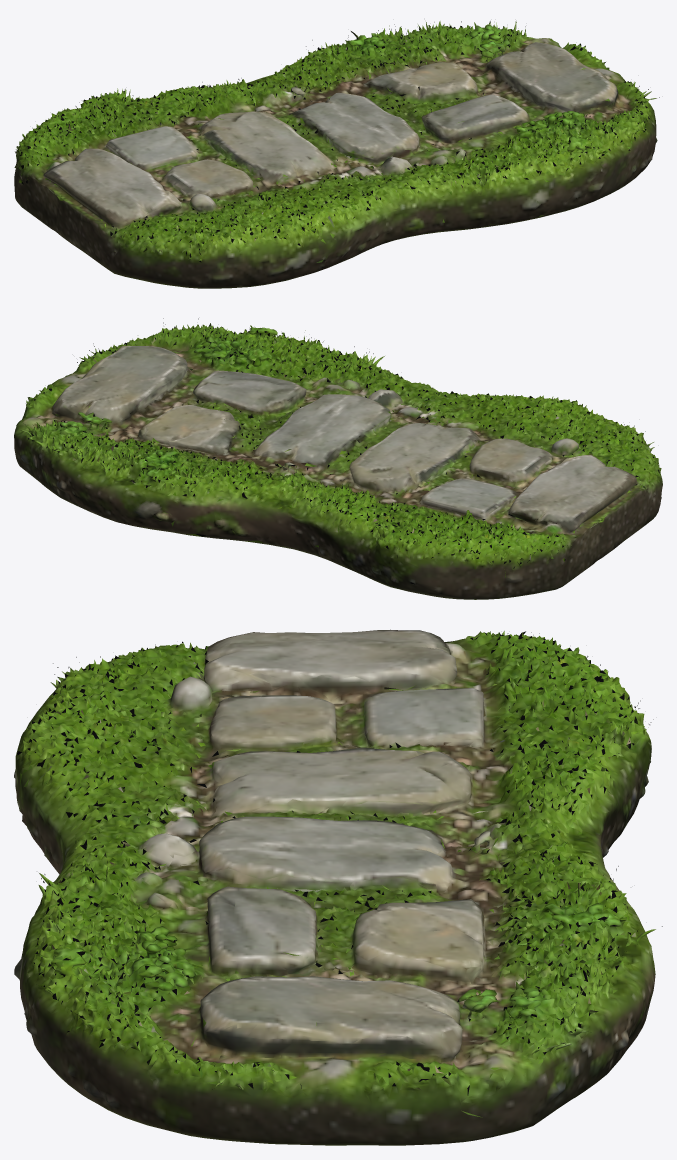
The model's file is Floating_Stone_Path.fbx.
3 renders of one model, top to bottom at view 1: azimuth 30°, elevation 25°; view 2: azimuth 150°, elevation 25°; view 3: azimuth 270°, elevation 25°, orthographic. The views are drawn at different scales.
Visible parts, largest first — view 1: Floating_Stone_Path_LOD0; view 2: Floating_Stone_Path_LOD0; view 3: Floating_Stone_Path_LOD0.
Part boxes in pixels (x1,y1,x2,y2): Floating_Stone_Path_LOD0: (14,21,659,288); Floating_Stone_Path_LOD0: (14,318,662,599); Floating_Stone_Path_LOD0: (14,629,662,1145).
Size of what is drawn, in the model's own units: 1.89 by 0.2211 by 1.15.
Materials: 1 (1 with a texture image).
